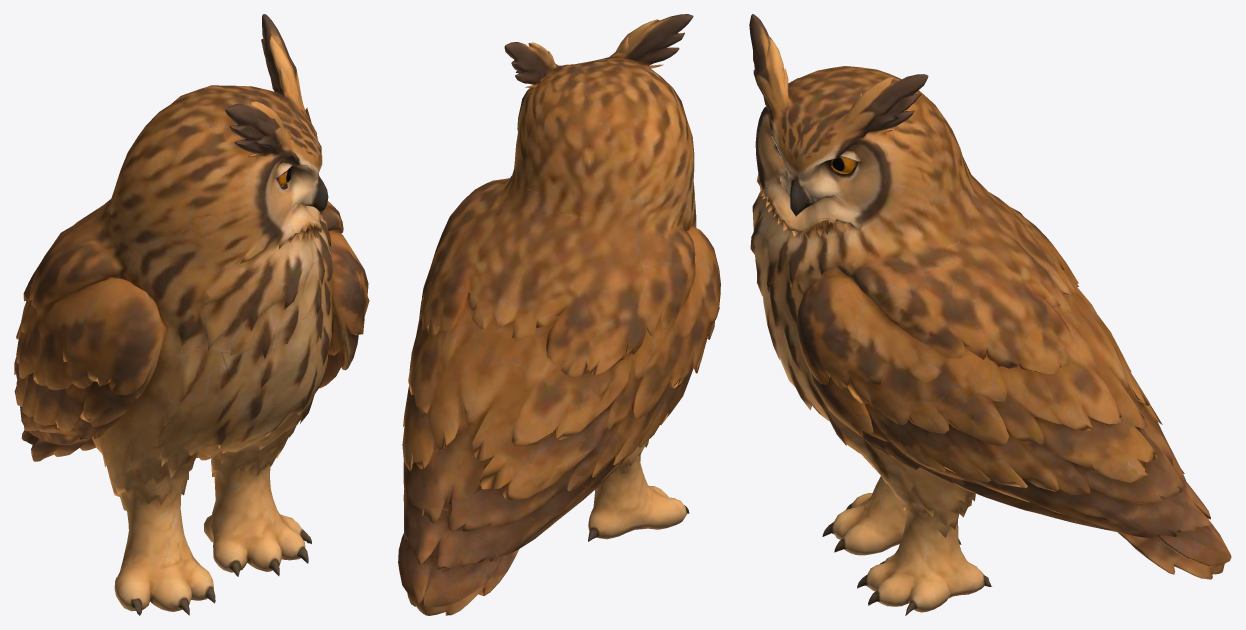
File: owl-bengaleagle.glb
The picture shows the model from 3 angles, left to right: view 1: azimuth 30°, elevation 25°; view 2: azimuth 150°, elevation 25°; view 3: azimuth 270°, elevation 25°; orthographic projection. The views are drawn at different scales.
Parts seen in each view (by area): view 1: geometry_0; view 2: geometry_0; view 3: geometry_0.
Part boxes in pixels (box(x1,y1,x2,y2)): geometry_0: box(14, 14, 369, 615); geometry_0: box(398, 14, 720, 615); geometry_0: box(749, 14, 1231, 615).
Bounding box in the file's own units: 0.5498 × 0.9531 × 0.7895.
Materials: 1 (1 with a texture image).
